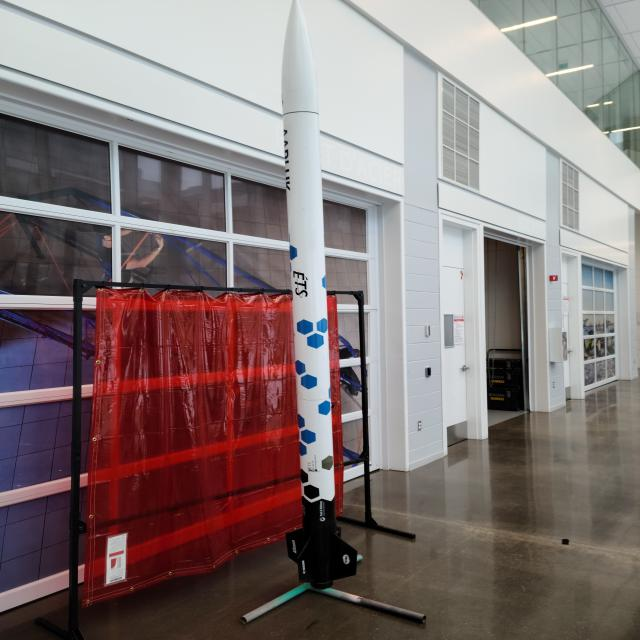Rocket: (281, 0, 358, 589)
